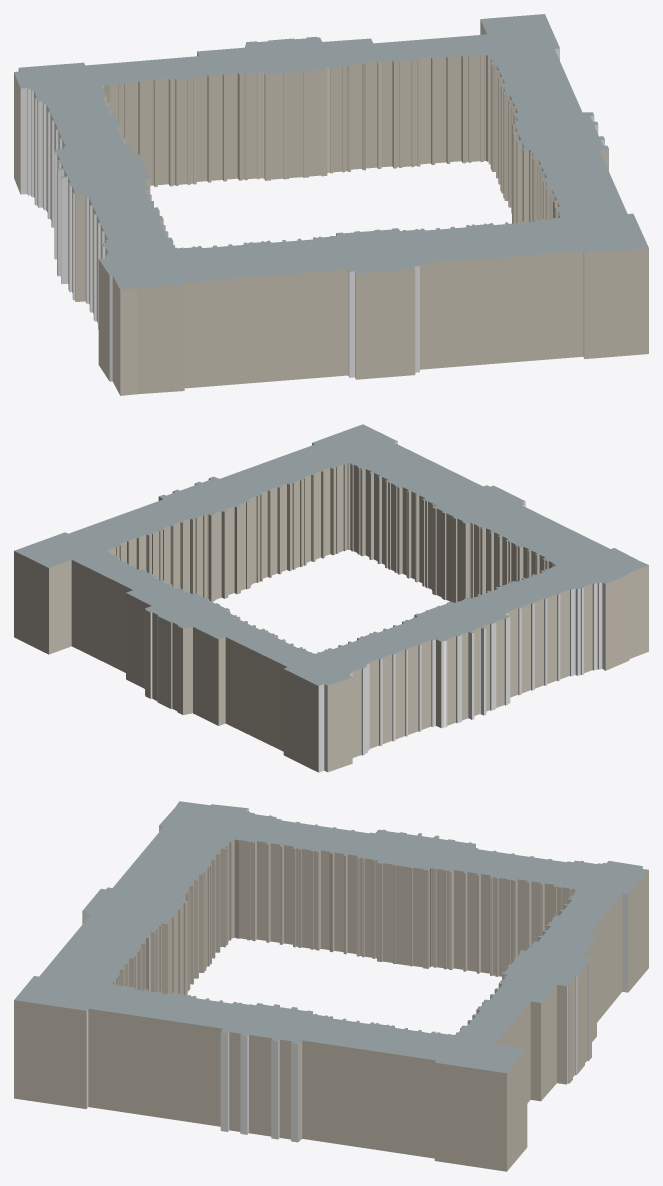
The picture shows the model from 3 angles, top to bottom: view 1: azimuth 30°, elevation 25°; view 2: azimuth 150°, elevation 25°; view 3: azimuth 270°, elevation 25°; orthographic projection. The views are drawn at different scales.
Visible parts, largest first — view 1: tuile; view 2: tuile; view 3: tuile.
Part boxes in pixels (left/top/right/bottom): tuile: left=14, top=14, right=648, bottom=395; tuile: left=14, top=424, right=648, bottom=772; tuile: left=14, top=801, right=648, bottom=1171.
Bounding box in the file's own units: 215 × 36.23 × 212.
